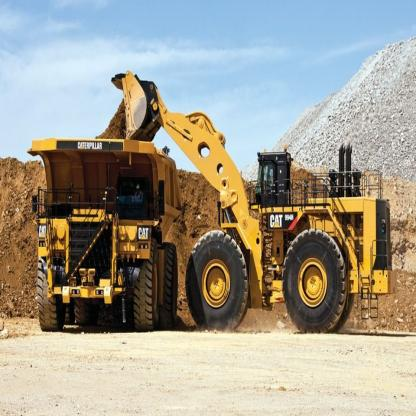bull_dozer/loader/grader: (113, 57, 397, 334)
dump_truck: (22, 132, 185, 342)
